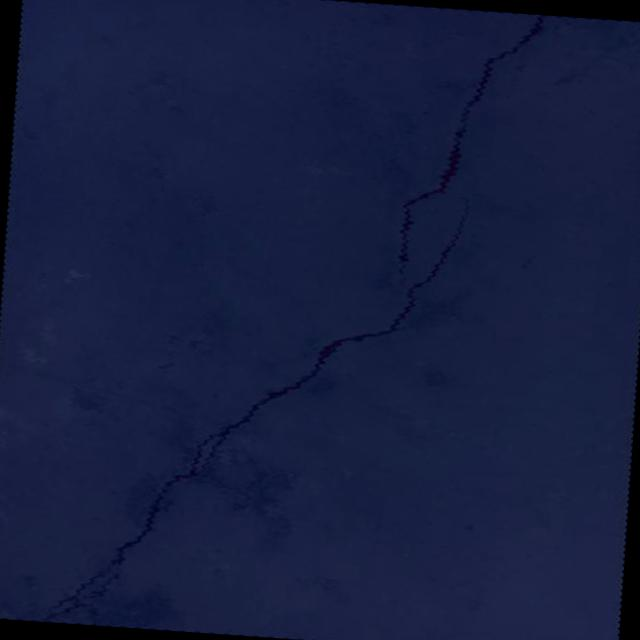crack: (42, 169, 469, 640), (396, 6, 548, 295), (552, 15, 570, 30)
